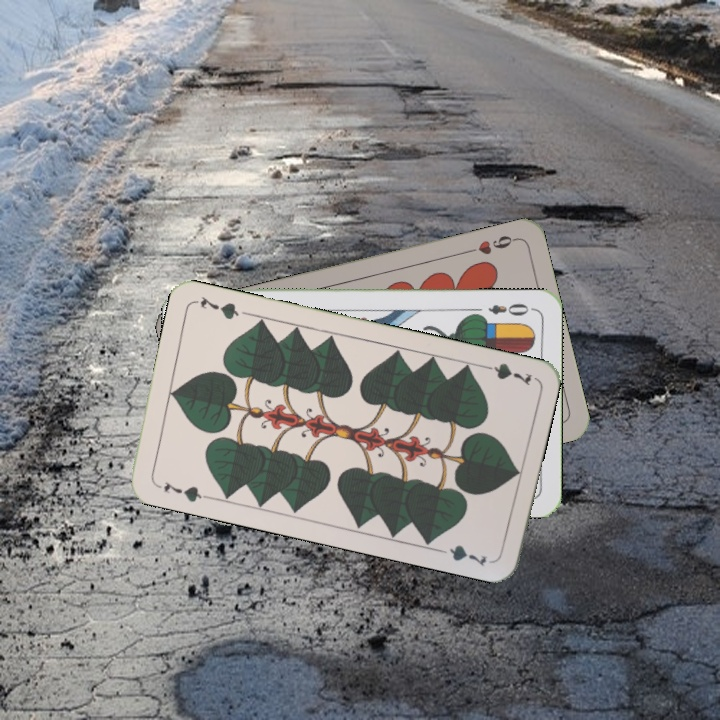EO: (484, 299, 531, 318)
G7: (476, 359, 534, 388), (159, 477, 210, 505)
H9: (461, 231, 519, 258)
